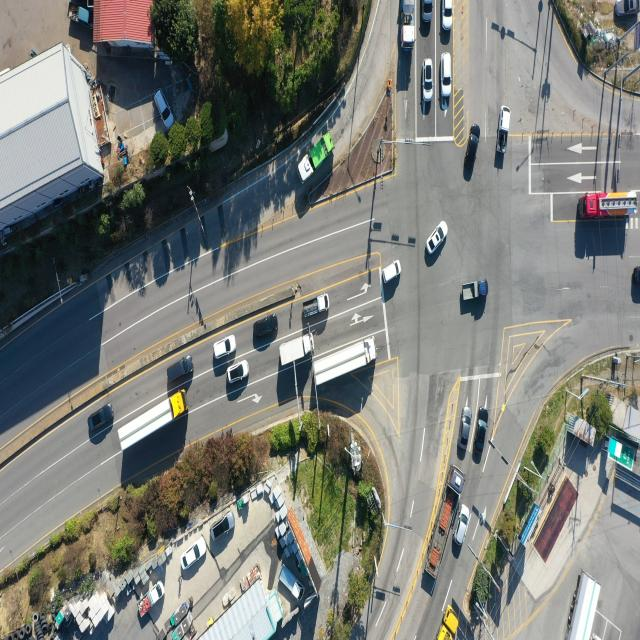car: (180, 535, 207, 572), (169, 355, 197, 384), (86, 404, 112, 435), (464, 121, 480, 167), (156, 90, 174, 130), (426, 223, 446, 258), (473, 412, 486, 464), (252, 316, 277, 339), (456, 506, 470, 547), (212, 513, 234, 539), (613, 0, 640, 21), (213, 336, 236, 360), (442, 52, 454, 98), (459, 407, 471, 452), (422, 60, 434, 104), (381, 261, 401, 287), (228, 360, 250, 383), (444, 0, 454, 30), (422, 0, 434, 22), (633, 267, 640, 285)
medium_truck: (116, 388, 186, 456), (425, 465, 466, 579), (311, 334, 377, 388), (565, 569, 601, 638), (297, 129, 333, 184), (580, 194, 640, 220), (278, 334, 313, 368), (438, 604, 460, 640), (403, 0, 419, 45)
small_truck: (138, 581, 166, 621), (280, 558, 303, 600), (301, 292, 328, 318), (65, 0, 90, 24), (462, 280, 488, 302), (497, 107, 509, 154)
